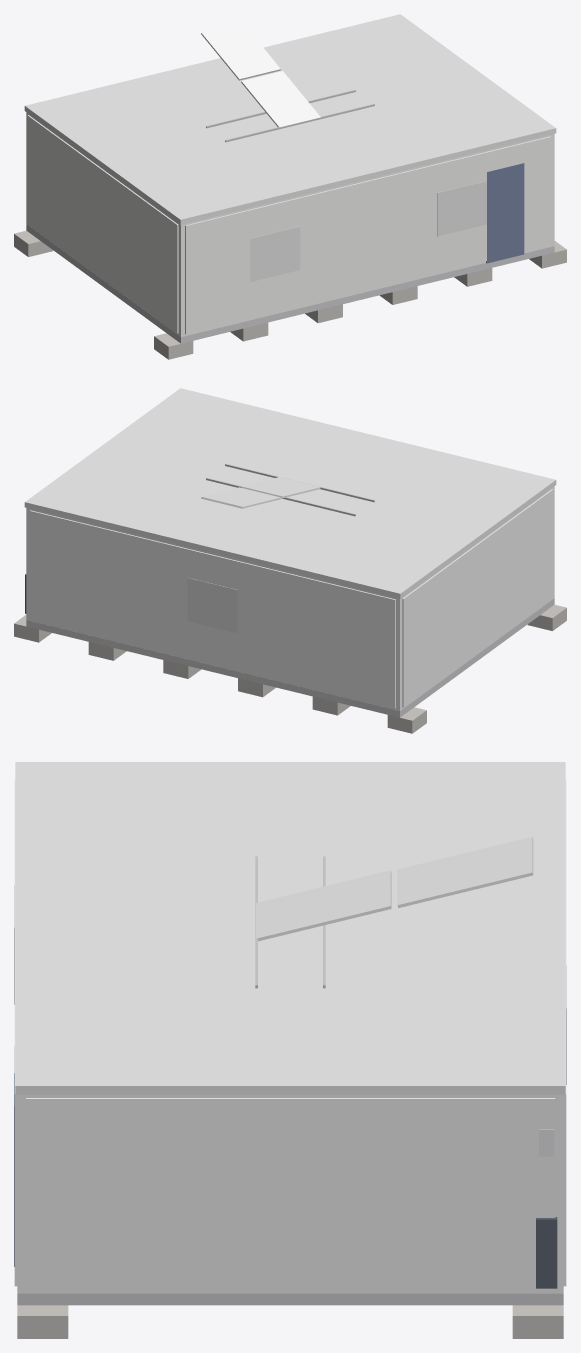
File: Studio-30-FullSolar-LOD1.glb
3 views of the same model, one above another, from view 1: azimuth 30°, elevation 25°; view 2: azimuth 150°, elevation 25°; view 3: azimuth 270°, elevation 25° (orthographic). The views are drawn at different scales.
Visible parts, largest first — view 1: RoofMain, ExteriorPanelsStandard, SolarPanelArray, WindowsStandard, BaseFrame, FoundationBlocks, EntryDoor, ExteriorShell, SolarMountingHardware; view 2: RoofMain, ExteriorPanelsStandard, BaseFrame, FoundationBlocks, ExteriorShell, WindowsStandard, SolarPanelArray, SolarMountingHardware; view 3: RoofMain, ExteriorPanelsStandard, SolarPanelArray, BaseFrame, ExteriorShell, FoundationBlocks, SolarBattery.
Part boxes in pixels (x1,y1,x2,y2): RoofMain: (24, 14, 556, 224); ExteriorPanelsStandard: (27, 115, 551, 334); SolarPanelArray: (201, 22, 320, 127); WindowsStandard: (250, 181, 486, 281); BaseFrame: (26, 224, 554, 343); FoundationBlocks: (14, 230, 566, 359); EntryDoor: (486, 163, 524, 263); ExteriorShell: (26, 112, 554, 336); SolarMountingHardware: (206, 90, 374, 142); RoofMain: (24, 388, 556, 598); ExteriorPanelsStandard: (30, 489, 553, 708); BaseFrame: (26, 598, 554, 717); FoundationBlocks: (14, 604, 566, 733); ExteriorShell: (26, 486, 554, 710); WindowsStandard: (187, 577, 237, 633); SolarPanelArray: (201, 477, 320, 508); SolarMountingHardware: (206, 464, 374, 516); RoofMain: (15, 762, 565, 1094); ExteriorPanelsStandard: (14, 779, 566, 1290); SolarPanelArray: (256, 837, 533, 941); BaseFrame: (17, 1293, 563, 1305); ExteriorShell: (17, 1095, 563, 1293); FoundationBlocks: (17, 1305, 563, 1338); SolarBattery: (536, 1217, 557, 1288).
Size of the model in its own units: 9.6 by 4.07 by 6.53.
